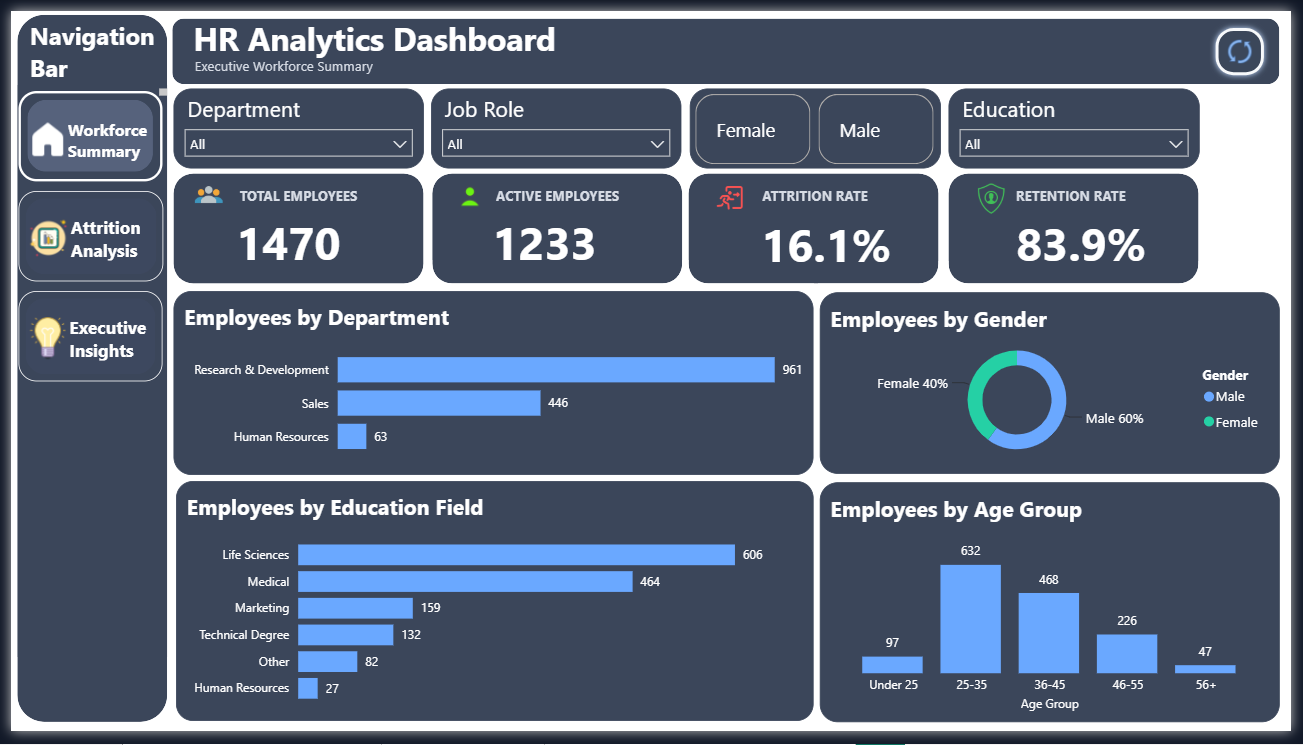

Layout of this report page (visuals, bound fields, positions):
{"tool":"powerbi","page":{"name":"Executive Workforce Summary","canvas":[1280,720],"ordinal":0},"visuals":[{"type":"shape","box":[5.7,4.3,150,707.1],"z":0},{"type":"shape","box":[161.4,7.1,1107.1,65.7],"z":1000},{"type":"textbox","box":[178,1,391.2,52.5],"z":2000},{"type":"textbox","box":[178.7,41.4,194.3,31.4],"z":3000},{"type":"slicer","fields":{"Values":["Employee.Department"]},"box":[162.5,77.7,250,80],"z":4000},{"type":"shape","box":[162.5,162.9,250,110],"z":4000,"group":"g4"},{"type":"slicer","fields":{"Values":["Employee.Job Role"]},"box":[420.2,77.2,250,79.6],"z":5000},{"type":"textbox","box":[224,171.9,130,30],"z":5000,"group":"g4"},{"type":"advancedSlicerVisual","fields":{"Values":["Employee.Gender"]},"box":[678.7,77.2,250.9,79.6],"z":6000},{"type":"cardVisual","fields":{"Data":["Measures (3).Total Employees"]},"box":[195.7,191.1,199.4,76.3],"z":6000,"group":"g4"},{"type":"slicer","fields":{"Values":["Employee.Education"]},"box":[937.1,77.2,250.9,79.6],"z":7000},{"type":"image","box":[182.3,169.4,30,30],"z":7000,"group":"g4"},{"type":"shape","box":[420.7,162.3,250,110],"z":8000,"group":"g3"},{"type":"clusteredBarChart","title":"Employees by Department","fields":{"Category":["Employee.Department"],"Y":["CountNonNull(Employee.Employee ID)"]},"box":[162.5,280,640,183.8],"z":8000},{"type":"textbox","box":[478.9,171.3,144,32],"z":9000,"group":"g3"},{"type":"donutChart","title":"Employees by Gender","fields":{"Category":["Employee.Gender"],"Y":["CountNonNull(Employee.Employee ID)"]},"box":[808.6,281.4,460,181.4],"z":9000},{"type":"cardVisual","fields":{"Data":["Measures (3).Active Employees"]},"box":[452.2,190.5,199.4,76],"z":10000,"group":"g3"},{"type":"clusteredColumnChart","title":"Employees by Age Group","fields":{"Category":["Employee.Age Group"],"Y":["CountNonNull(Employee.Employee ID)"]},"box":[808.6,471.4,460,240],"z":10000},{"type":"shape","box":[677.8,162.3,250,110],"z":11000,"group":"g2"},{"type":"clusteredBarChart","title":"Employees by Education Field","fields":{"Category":["Employee.Education Field"],"Y":["CountNonNull(Employee.Employee ID)"]},"box":[165,470,637.5,240],"z":11000},{"type":"textbox","box":[746.5,171.3,130,30],"z":12000,"group":"g2"},{"type":"actionButton","box":[8,180,145,90],"z":12000},{"type":"actionButton","box":[8,80,143.8,90],"z":13000},{"type":"cardVisual","fields":{"Data":["Measures (3).Attrition Rate"]},"box":[721.6,190.5,192,80],"z":13000,"group":"g2"},{"type":"shape","box":[937.2,162.3,250,110],"z":14000,"group":"g1"},{"type":"image","box":[443.8,168.8,30,30],"z":14000,"group":"g3"},{"type":"actionButton","box":[8,280,143.8,90],"z":14000},{"type":"group","id":"g1","title":"Group 1","box":[937.2,162.3,250,110],"z":15000},{"type":"image","box":[704.1,171.3,30,30],"z":15000,"group":"g2"},{"type":"textbox","box":[1000,171.3,130,30],"z":15000,"group":"g1"},{"type":"group","id":"g2","title":"Group 2","box":[677.8,162.3,250,110],"z":16000},{"type":"cardVisual","fields":{"Data":["Measures (3).Retention Rate"]},"box":[975.6,190.5,207.5,79.6],"z":16000,"group":"g1"},{"type":"group","id":"g3","title":"Group 3","box":[420.7,162.3,250,110],"z":17000},{"type":"group","id":"g4","title":"Group 4","box":[162.5,162.9,250,110],"z":18000},{"type":"textbox","title":"Navigation Bar","box":[13.8,6.2,142.5,78.8],"z":19000},{"type":"image","box":[964.2,172.5,30,30],"z":19000,"group":"g1"},{"type":"actionButton","box":[1198.8,11.2,60,58.8],"z":20000}]}

Visuals, with their boxes in screenshot pixels (x1, y1, x2, y2), scaled from the page's 1280x720 canvas onto the 1303x745 screenshot:
shape: Rect(6, 4, 158, 736)
shape: Rect(164, 7, 1291, 75)
textbox: Rect(181, 1, 579, 55)
textbox: Rect(182, 43, 380, 75)
slicer - Employee.Department: Rect(165, 80, 420, 163)
shape: Rect(165, 169, 420, 282)
slicer - Employee.Job Role: Rect(428, 80, 682, 162)
textbox: Rect(228, 178, 360, 209)
advancedSlicerVisual - Employee.Gender: Rect(691, 80, 946, 162)
cardVisual - Measures (3).Total Employees: Rect(199, 198, 402, 277)
slicer - Employee.Education: Rect(954, 80, 1209, 162)
image: Rect(186, 175, 216, 206)
shape: Rect(428, 168, 683, 282)
"Employees by Department" clusteredBarChart: Rect(165, 290, 817, 480)
textbox: Rect(488, 177, 634, 210)
"Employees by Gender" donutChart: Rect(823, 291, 1291, 479)
cardVisual - Measures (3).Active Employees: Rect(460, 197, 663, 276)
"Employees by Age Group" clusteredColumnChart: Rect(823, 488, 1291, 736)
shape: Rect(690, 168, 944, 282)
"Employees by Education Field" clusteredBarChart: Rect(168, 486, 817, 735)
textbox: Rect(760, 177, 892, 208)
actionButton: Rect(8, 186, 156, 279)
actionButton: Rect(8, 83, 155, 176)
cardVisual - Measures (3).Attrition Rate: Rect(735, 197, 930, 280)
shape: Rect(954, 168, 1209, 282)
image: Rect(452, 175, 482, 206)
actionButton: Rect(8, 290, 155, 383)
"Group 1" group: Rect(954, 168, 1209, 282)
image: Rect(717, 177, 747, 208)
textbox: Rect(1018, 177, 1150, 208)
"Group 2" group: Rect(690, 168, 944, 282)
cardVisual - Measures (3).Retention Rate: Rect(993, 197, 1204, 279)
"Group 3" group: Rect(428, 168, 683, 282)
"Group 4" group: Rect(165, 169, 420, 282)
"Navigation Bar" textbox: Rect(14, 6, 159, 88)
image: Rect(982, 178, 1012, 210)
actionButton: Rect(1220, 12, 1281, 72)
